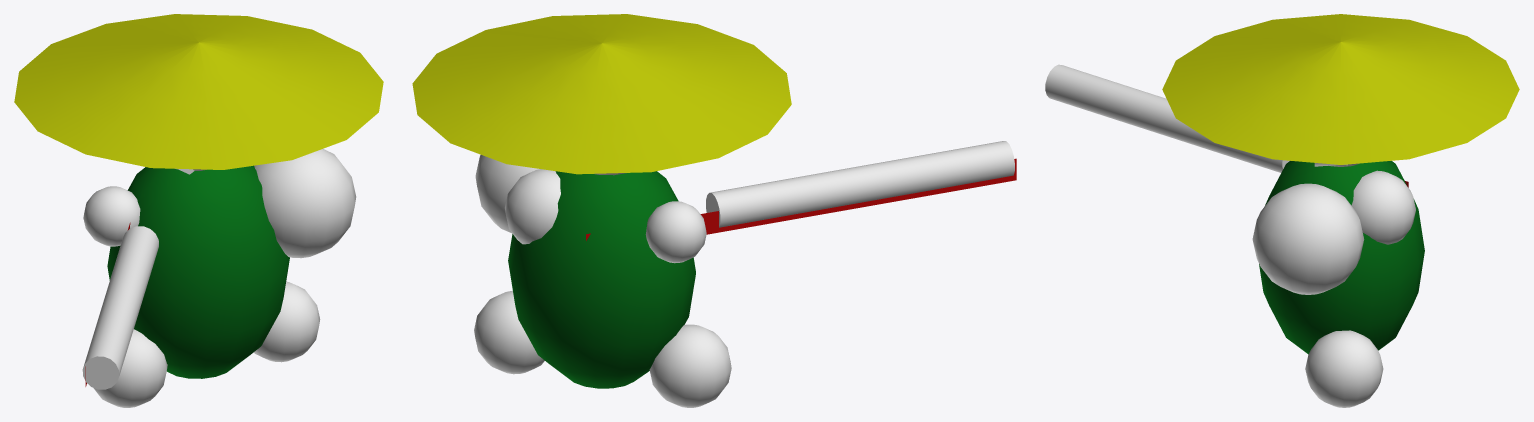
The model's file is Player Attack.fbx.
The picture shows the model from 3 angles, left to right: view 1: azimuth 30°, elevation 25°; view 2: azimuth 150°, elevation 25°; view 3: azimuth 270°, elevation 25°; orthographic projection. The views are drawn at different scales.
Visible parts, largest first — view 1: Cone, Sphere_6, Sphere_8, Cylinder, Sphere_3, Sphere_4, Sphere_7; view 2: Cone, Sphere_6, Cylinder, Sphere_4, Sphere_3, Sphere_2, Sphere_7, Sphere_8, Lathe; view 3: Cone, Sphere_6, Sphere_8, Cylinder, Sphere_3, Sphere_2.
Boxes of the visible parts, x1=… form: Cone: x1=14, y1=14, x2=383, y2=169; Sphere_6: x1=107, y1=165, x2=289, y2=378; Sphere_8: x1=254, y1=149, x2=356, y2=258; Cylinder: x1=82, y1=226, x2=158, y2=389; Sphere_3: x1=254, y1=281, x2=320, y2=362; Sphere_4: x1=93, y1=329, x2=167, y2=407; Sphere_7: x1=83, y1=186, x2=140, y2=246; Cone: x1=412, y1=14, x2=791, y2=174; Sphere_6: x1=508, y1=171, x2=695, y2=388; Cylinder: x1=706, y1=141, x2=1014, y2=227; Sphere_4: x1=649, y1=324, x2=731, y2=407; Sphere_3: x1=474, y1=291, x2=544, y2=374; Sphere_2: x1=505, y1=169, x2=560, y2=244; Sphere_7: x1=645, y1=201, x2=706, y2=263; Sphere_8: x1=475, y1=155, x2=539, y2=233; Lathe: x1=586, y1=158, x2=1016, y2=240; Cone: x1=1162, y1=14, x2=1519, y2=164; Sphere_6: x1=1259, y1=161, x2=1424, y2=354; Sphere_8: x1=1252, y1=183, x2=1364, y2=294; Cylinder: x1=1045, y1=64, x2=1289, y2=172; Sphere_3: x1=1305, y1=330, x2=1383, y2=407; Sphere_2: x1=1351, y1=170, x2=1415, y2=244.
Bounding box in the file's own units: 417 × 320 × 425.
